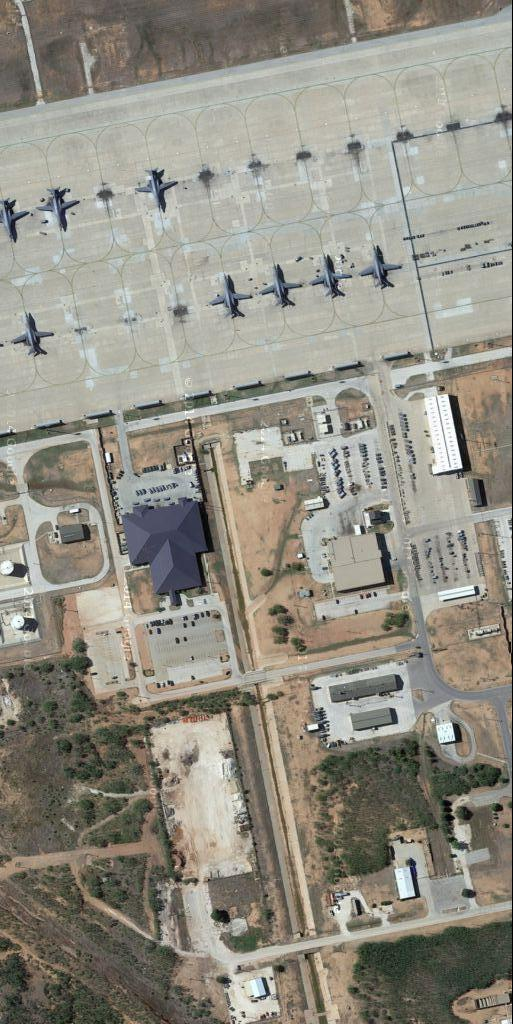B-1B: (35, 181, 81, 239), (357, 240, 405, 294), (308, 248, 351, 307), (206, 269, 252, 323), (135, 165, 181, 218), (12, 312, 56, 362), (261, 259, 301, 312), (1, 196, 33, 242)
